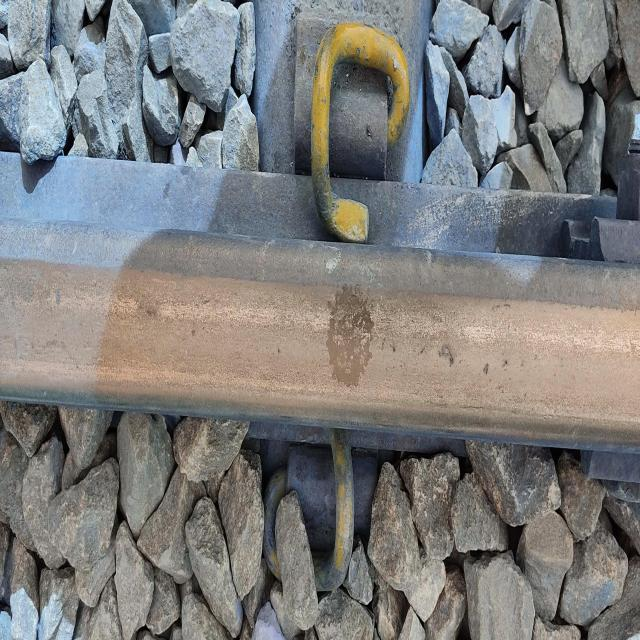head_checks_low: (327, 276, 372, 388), (438, 328, 456, 377), (482, 358, 490, 382)
